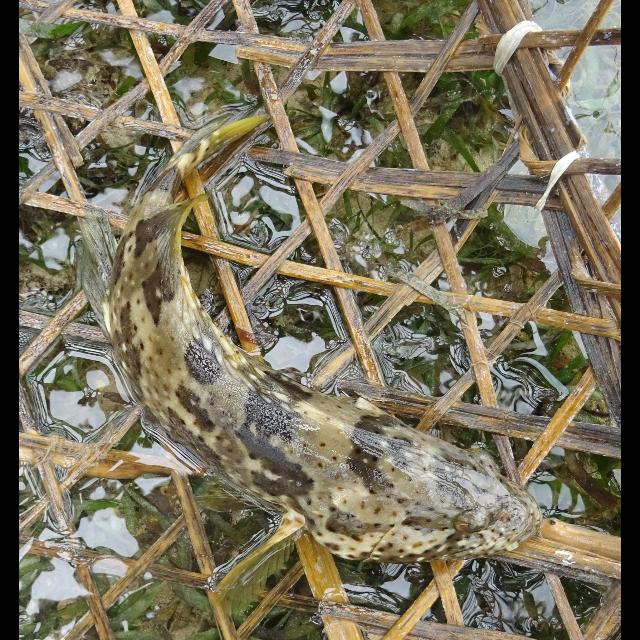Groupers: (112, 113, 554, 572)
